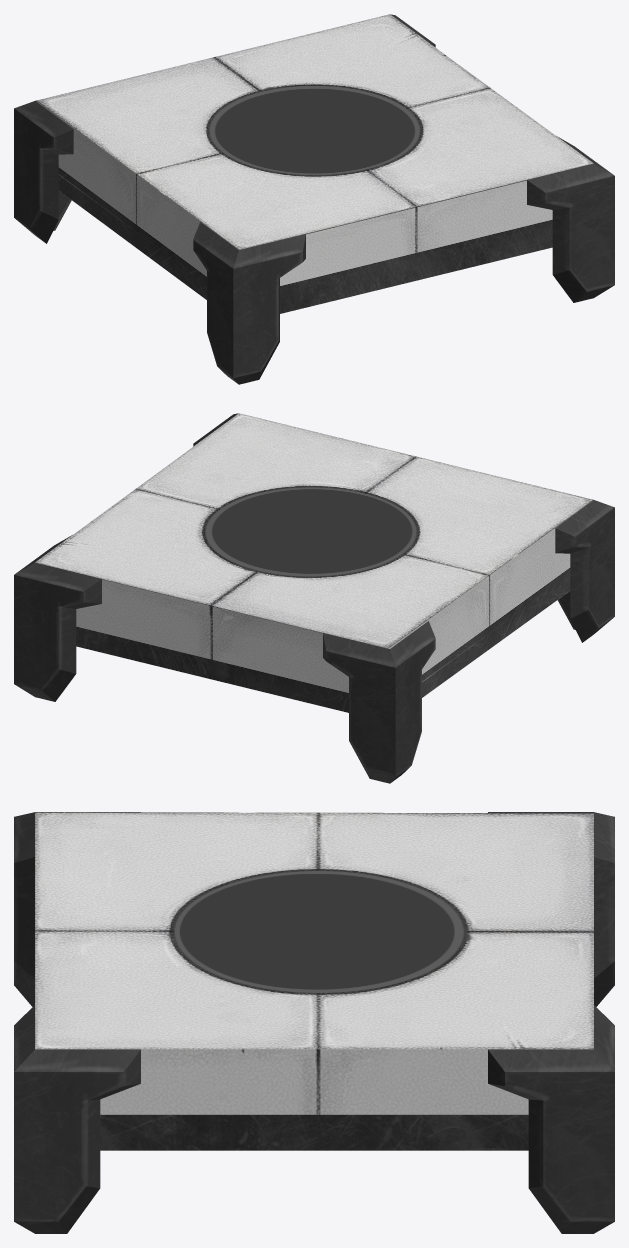
Rendered from MOD_Platforme_4.fbx.
The picture shows the model from 3 angles, top to bottom: view 1: azimuth 30°, elevation 25°; view 2: azimuth 150°, elevation 25°; view 3: azimuth 270°, elevation 25°; orthographic projection. The views are drawn at different scales.
Visible parts, largest first — view 1: MOD_Plateform20; view 2: MOD_Plateform20; view 3: MOD_Plateform20.
Boxes of the visible parts, left/top/right/bottom form: MOD_Plateform20: left=14, top=14, right=614, bottom=384; MOD_Plateform20: left=14, top=413, right=614, bottom=783; MOD_Plateform20: left=14, top=812, right=614, bottom=1233.
Bounding box in the file's own units: 1080 × 364 × 1076.
